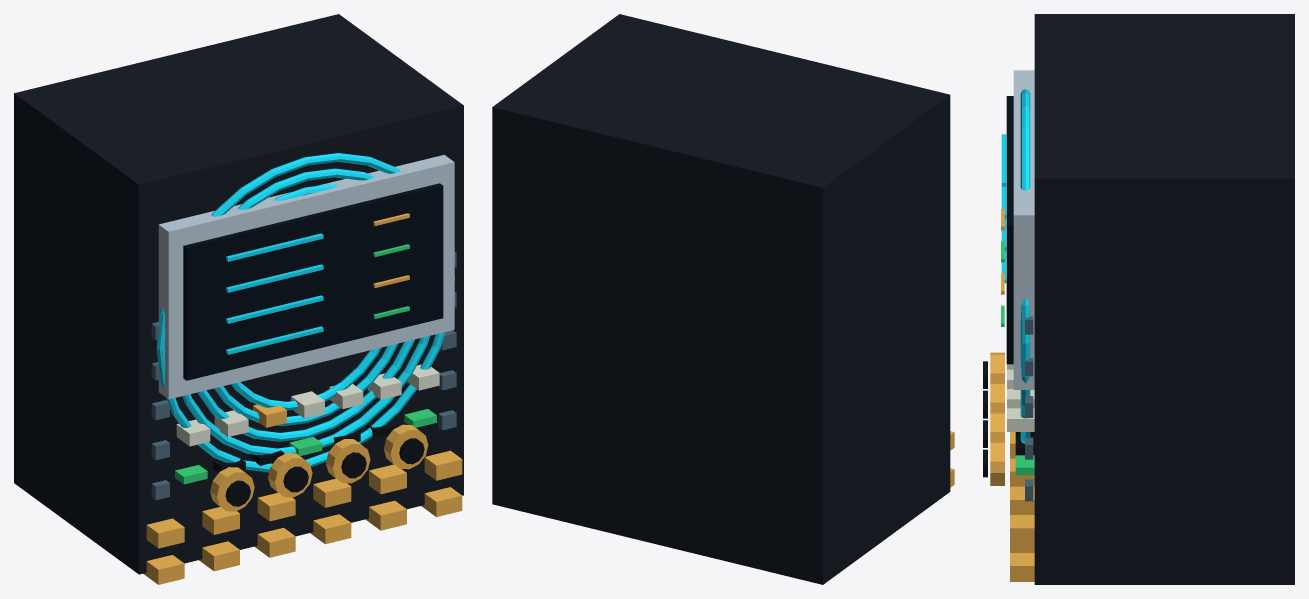
File: 93_L92_MechanicalSampleCertificationHologram.fbx
3 renders of one model, left to right at view 1: azimuth 30°, elevation 25°; view 2: azimuth 150°, elevation 25°; view 3: azimuth 270°, elevation 25°, orthographic. The views are drawn at different scales.
Parts seen in each view (by area): view 1: L92_MechanicalSampleCertificationHologra_Part_0000, L92_MechanicalSampleCertificationHologra_Part_0002, L92_MechanicalSampleCertificationHologra_Part_0001, L92_MechanicalSampleCertificationHologra_Part_0011, L92_MechanicalSampleCertificationHologra_Part_0004, L92_MechanicalSampleCertificationHologra_Part_0006, L92_MechanicalSampleCertificationHologra_Part_0003, L92_MechanicalSampleCertificationHologra_Part_0008, L92_MechanicalSampleCertificationHologra_Part_0005, L92_MechanicalSampleCertificationHologra_Part_0007, L92_MechanicalSampleCertificationHologra_Part_0012, L92_MechanicalSampleCertificationHologra_Part_0014 (+2 smaller); view 2: L92_MechanicalSampleCertificationHologra_Part_0000; view 3: L92_MechanicalSampleCertificationHologra_Part_0000, L92_MechanicalSampleCertificationHologra_Part_0001, L92_MechanicalSampleCertificationHologra_Part_0004, L92_MechanicalSampleCertificationHologra_Part_0002, L92_MechanicalSampleCertificationHologra_Part_0011, L92_MechanicalSampleCertificationHologra_Part_0006, L92_MechanicalSampleCertificationHologra_Part_0008, L92_MechanicalSampleCertificationHologra_Part_0003, L92_MechanicalSampleCertificationHologra_Part_0018, L92_MechanicalSampleCertificationHologra_Part_0005, L92_MechanicalSampleCertificationHologra_Part_0012, L92_MechanicalSampleCertificationHologra_Part_0014 (+1 smaller).
Boxes of the visible parts, x1,y1,x2,y2 form: L92_MechanicalSampleCertificationHologra_Part_0000: (14,14,463,574); L92_MechanicalSampleCertificationHologra_Part_0002: (183,183,443,380); L92_MechanicalSampleCertificationHologra_Part_0001: (158,154,454,399); L92_MechanicalSampleCertificationHologra_Part_0011: (156,153,454,472); L92_MechanicalSampleCertificationHologra_Part_0004: (143,213,462,584); L92_MechanicalSampleCertificationHologra_Part_0006: (176,364,439,446); L92_MechanicalSampleCertificationHologra_Part_0003: (226,233,323,354); L92_MechanicalSampleCertificationHologra_Part_0008: (151,252,456,500); L92_MechanicalSampleCertificationHologra_Part_0005: (175,244,436,484); L92_MechanicalSampleCertificationHologra_Part_0007: (213,419,398,472); L92_MechanicalSampleCertificationHologra_Part_0012: (210,467,254,511); L92_MechanicalSampleCertificationHologra_Part_0014: (268,453,312,497); L92_MechanicalSampleCertificationHologra_Part_0000: (492,14,950,584); L92_MechanicalSampleCertificationHologra_Part_0000: (1034,14,1294,584); L92_MechanicalSampleCertificationHologra_Part_0001: (1013,70,1034,389); L92_MechanicalSampleCertificationHologra_Part_0004: (1001,209,1034,581); L92_MechanicalSampleCertificationHologra_Part_0002: (1006,96,1013,364); L92_MechanicalSampleCertificationHologra_Part_0011: (1020,89,1030,443); L92_MechanicalSampleCertificationHologra_Part_0006: (1007,364,1034,431); L92_MechanicalSampleCertificationHologra_Part_0008: (1025,316,1033,501); L92_MechanicalSampleCertificationHologra_Part_0003: (1001,134,1006,283); L92_MechanicalSampleCertificationHologra_Part_0018: (990,441,1004,485); L92_MechanicalSampleCertificationHologra_Part_0005: (1001,241,1034,475); L92_MechanicalSampleCertificationHologra_Part_0012: (990,352,1004,381); L92_MechanicalSampleCertificationHologra_Part_0014: (990,382,1004,411).
Size of the model in its own units: 112 by 130 by 89.6.
